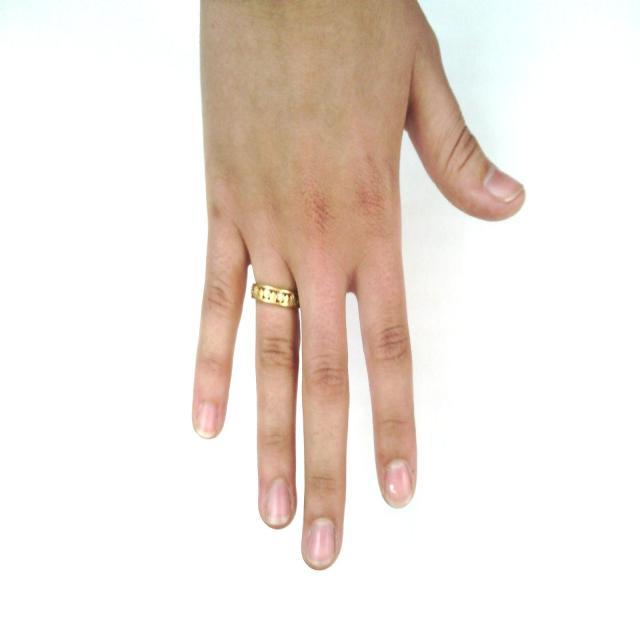Fingernail: (306, 518, 335, 567), (485, 166, 522, 202), (385, 461, 412, 507), (265, 480, 292, 526), (197, 401, 218, 438)
